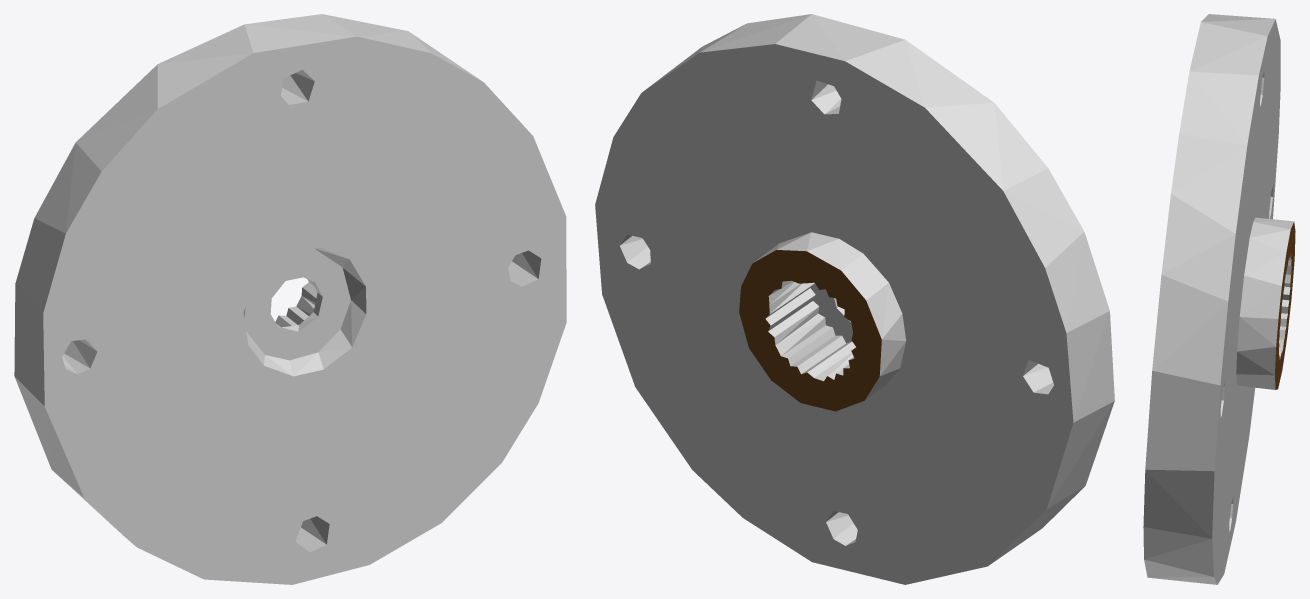
File: torso_z_link_visual_7.obj
3 views of the same model, side by side, from view 1: azimuth 30°, elevation 25°; view 2: azimuth 150°, elevation 25°; view 3: azimuth 270°, elevation 25° (orthographic). The views are drawn at different scales.
Visible parts, largest first — view 1: i01.torso.topStom.full.008_visual.001; view 2: i01.torso.topStom.full.008_visual.001; view 3: i01.torso.topStom.full.008_visual.001.
Part boxes in pixels (box(x1,y1,x2,y2)): i01.torso.topStom.full.008_visual.001: box(14, 14, 566, 584); i01.torso.topStom.full.008_visual.001: box(595, 14, 1114, 584); i01.torso.topStom.full.008_visual.001: box(1143, 14, 1295, 584).
Size of the model in its own units: 0.3762 by 0.3753 by 0.1007.
